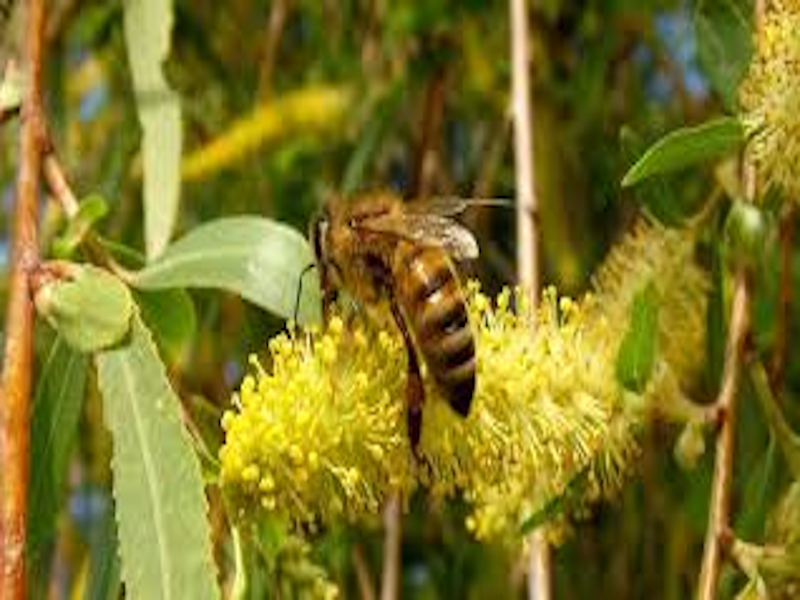abeja: (266, 159, 521, 459)
